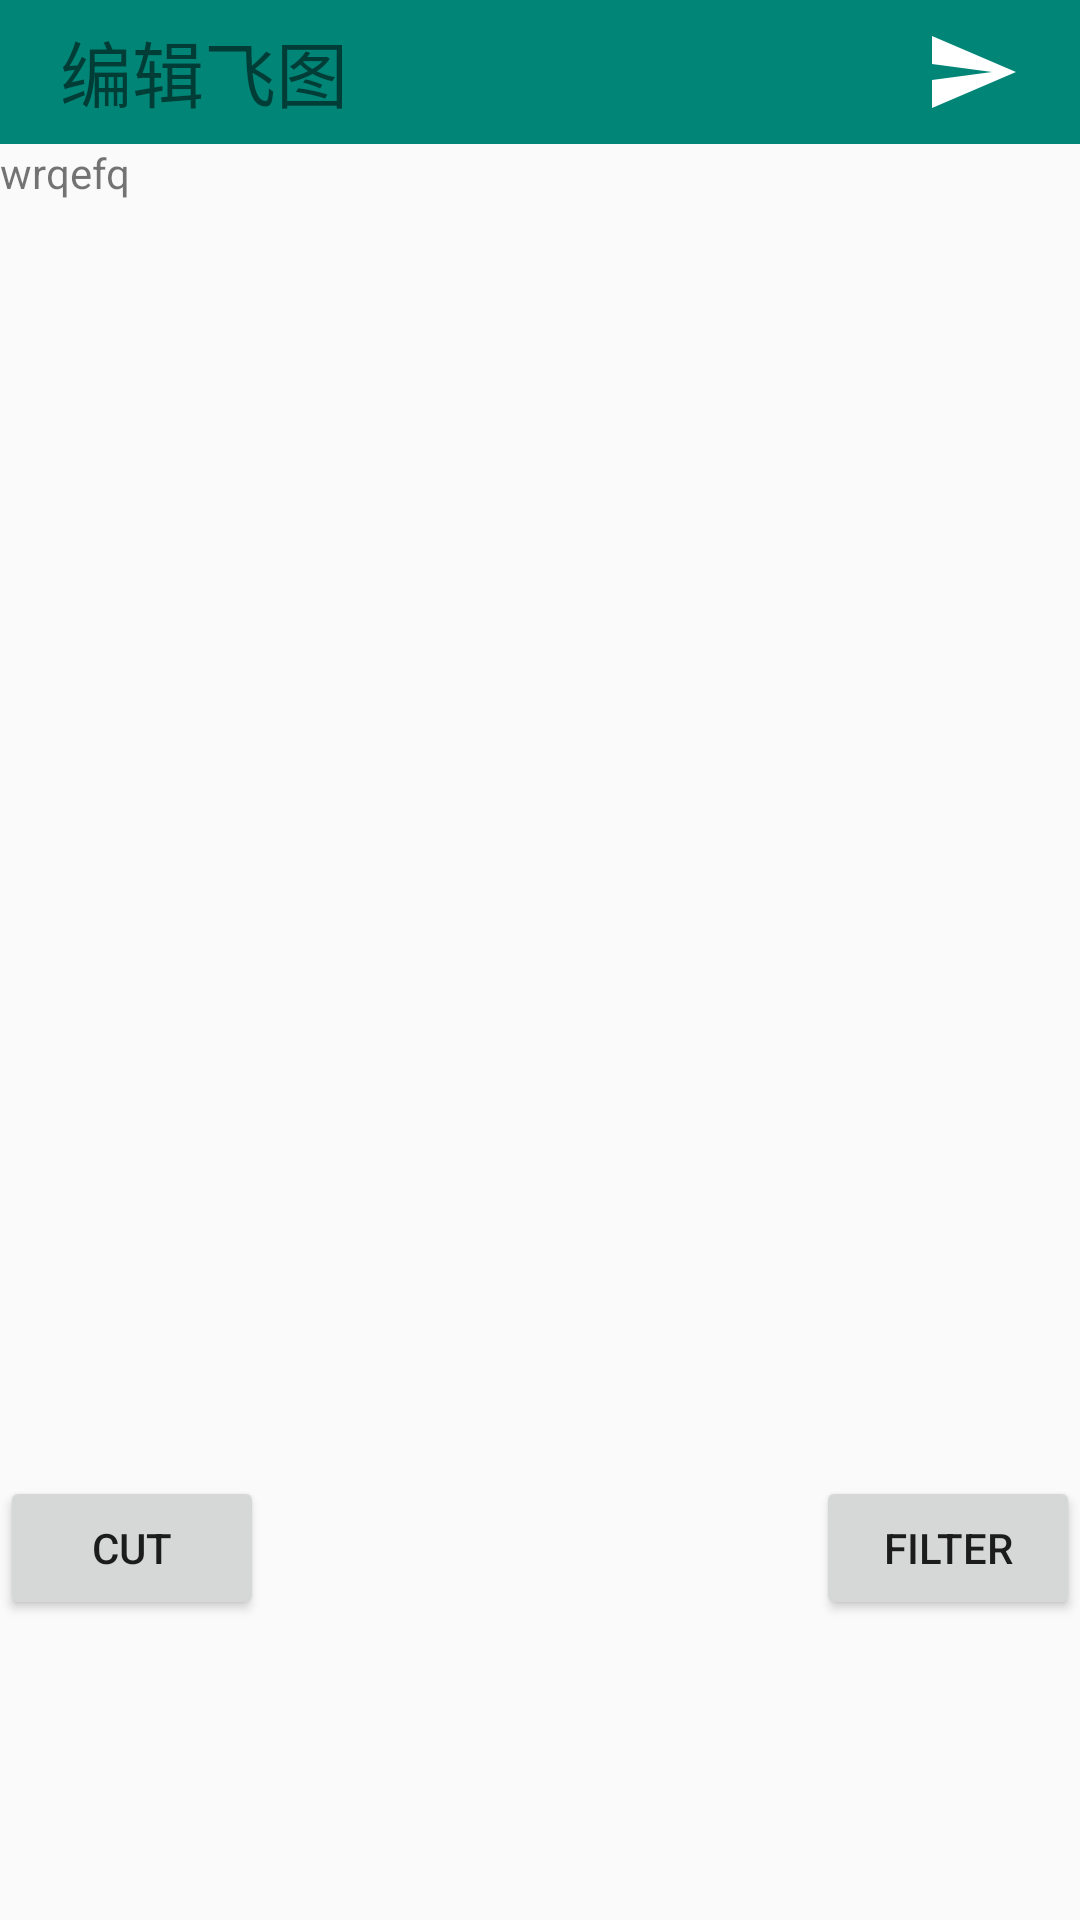

Icons on this 1080w x 1920h Android screen, each with its box as (x1, y1, x2, y2):
send: (932, 36, 1016, 108)
